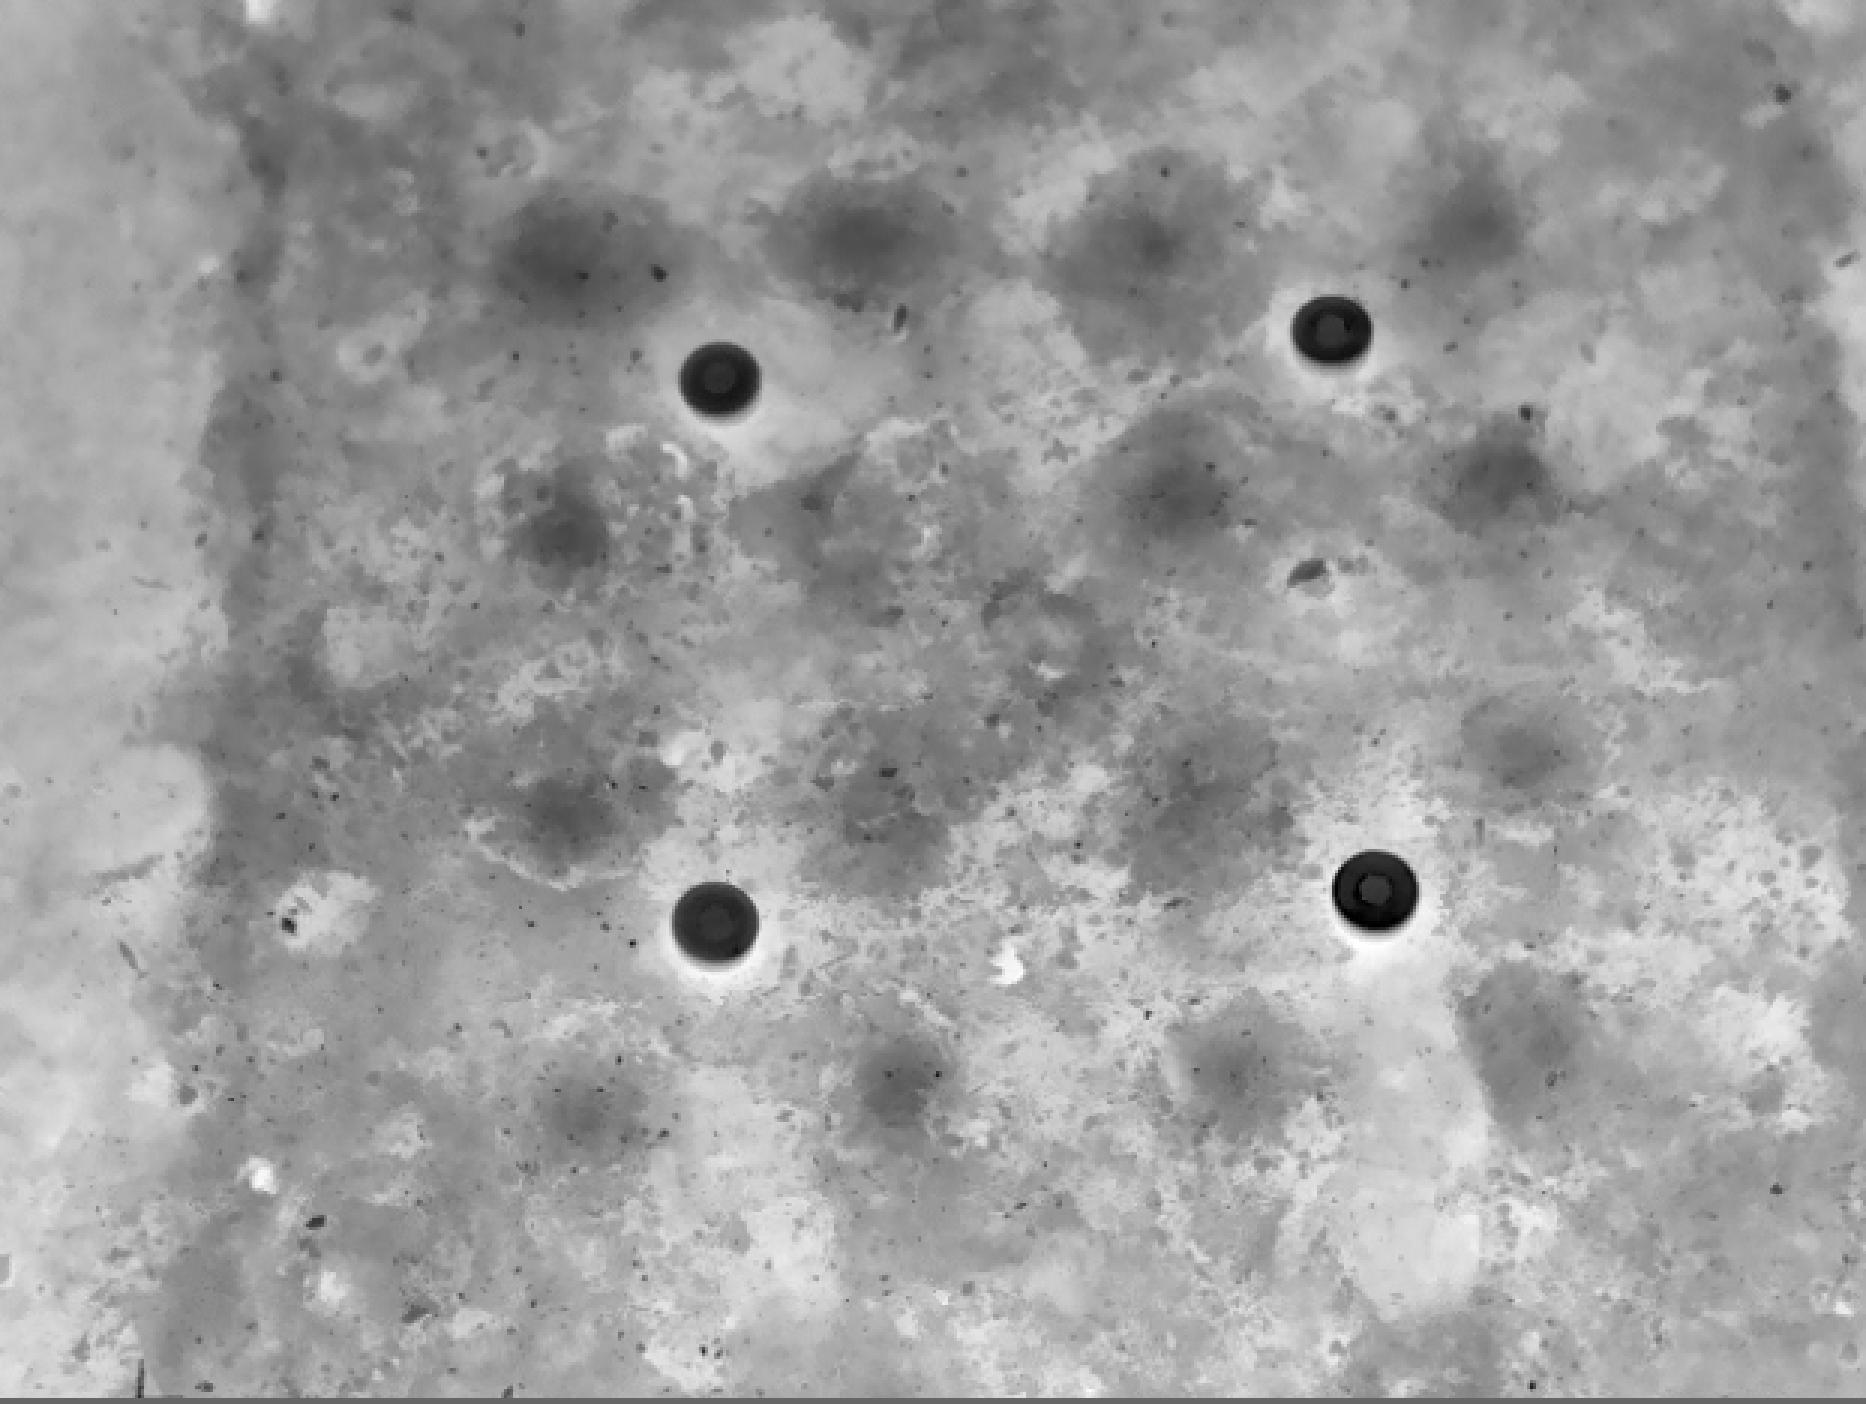mines-gjV8: (1331, 849, 1435, 944), (676, 879, 761, 973), (681, 347, 761, 419), (1303, 292, 1376, 363)
